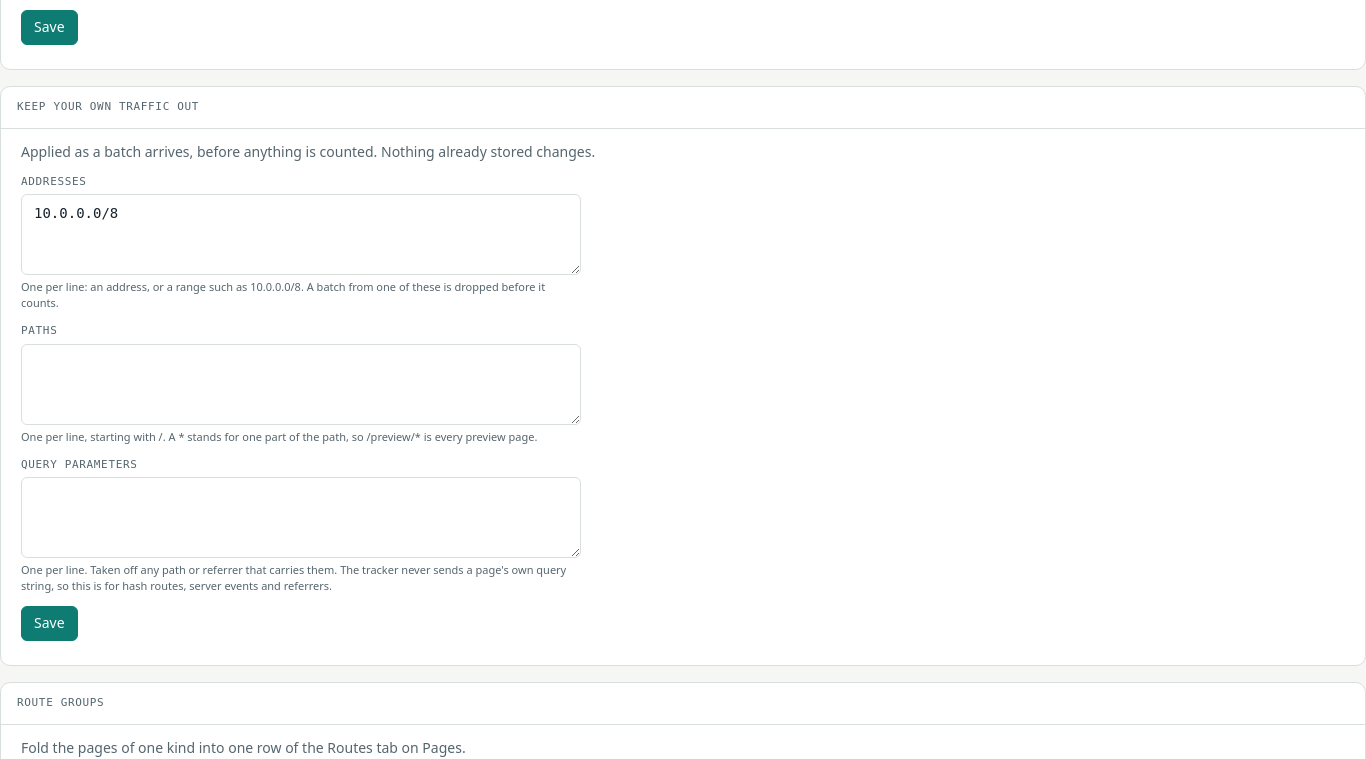
Settings, for an owner › refuses a path that does not start with a slash before sending anything
(page scrolled)
Type "preview" into the text box labelled "Paths".
click(301, 384); type("preview")  # box [21, 344, 581, 425]
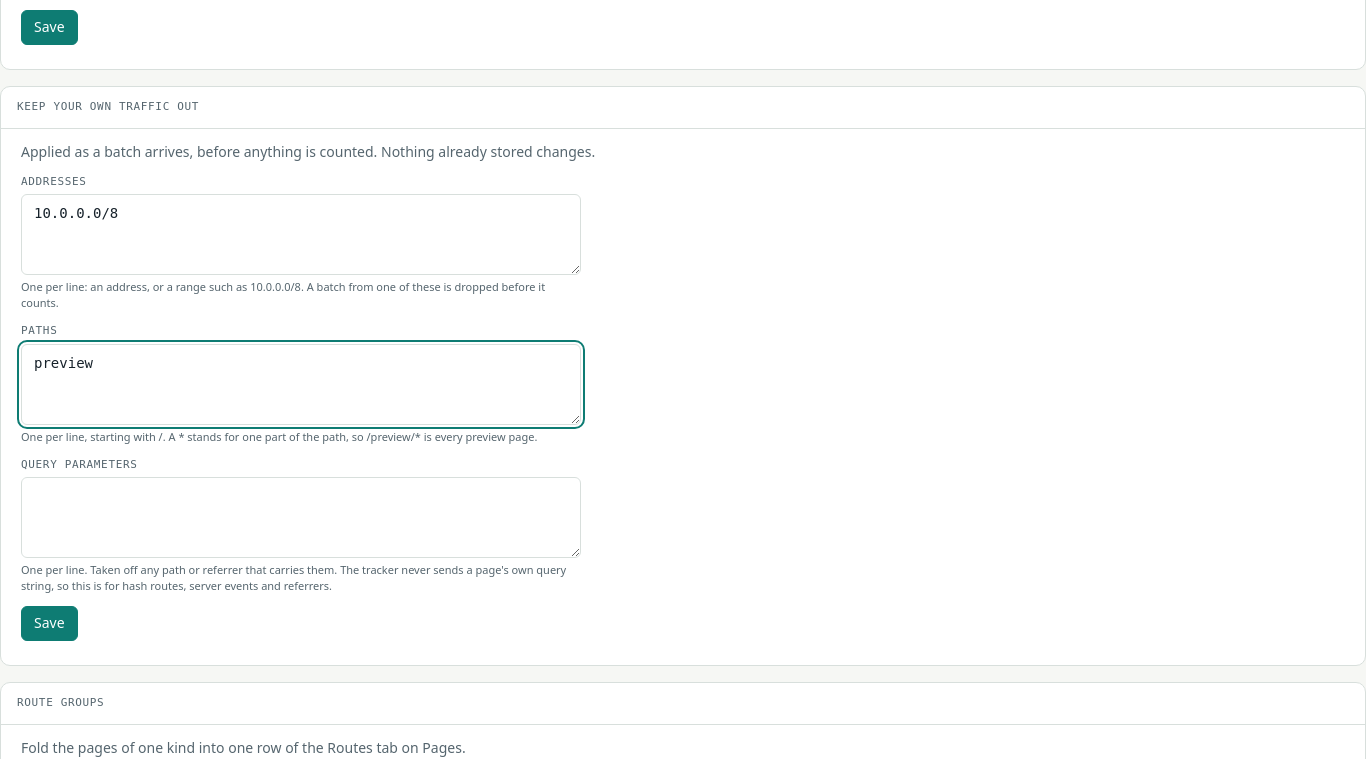
Click the button "Save" below "Query parameters".
click(49, 623)  # box [21, 606, 78, 641]
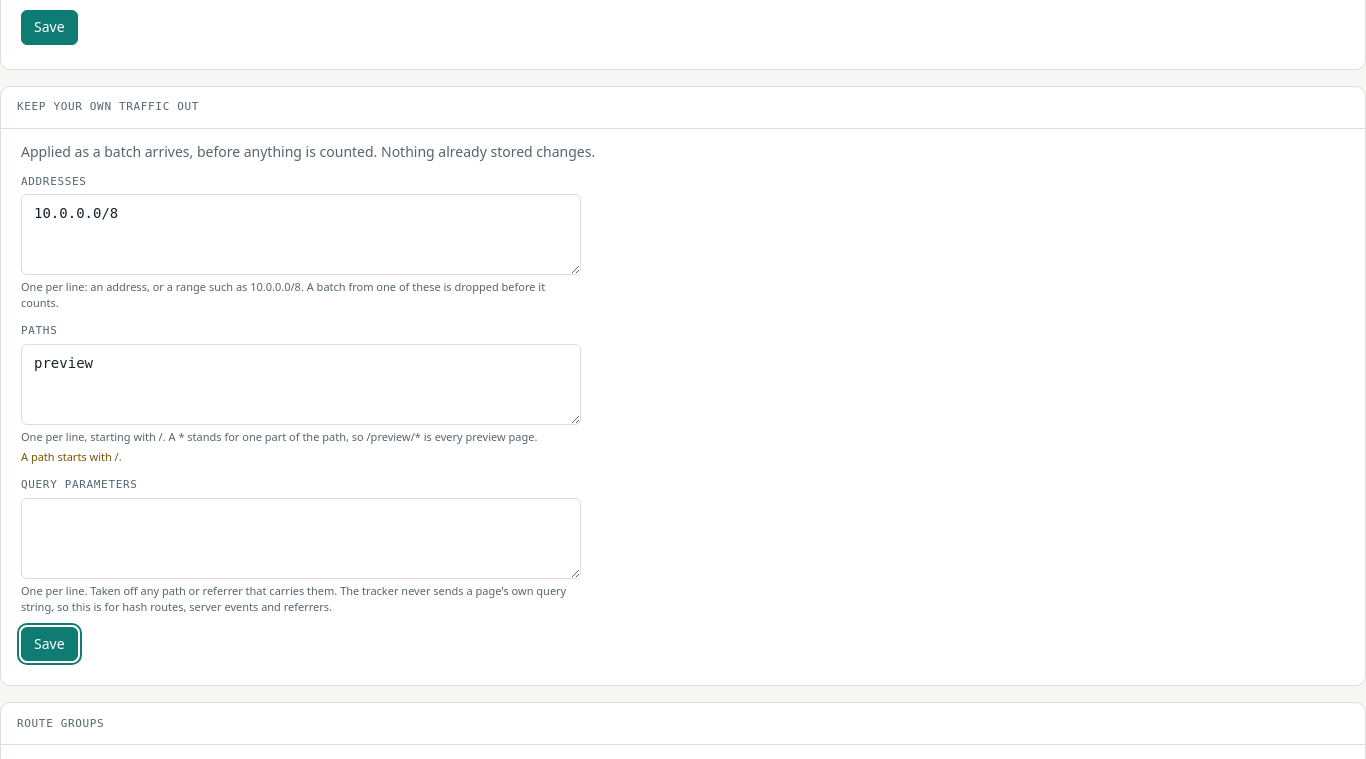
Expected: the message reads "A path starts with /.", [21, 449, 122, 464]
